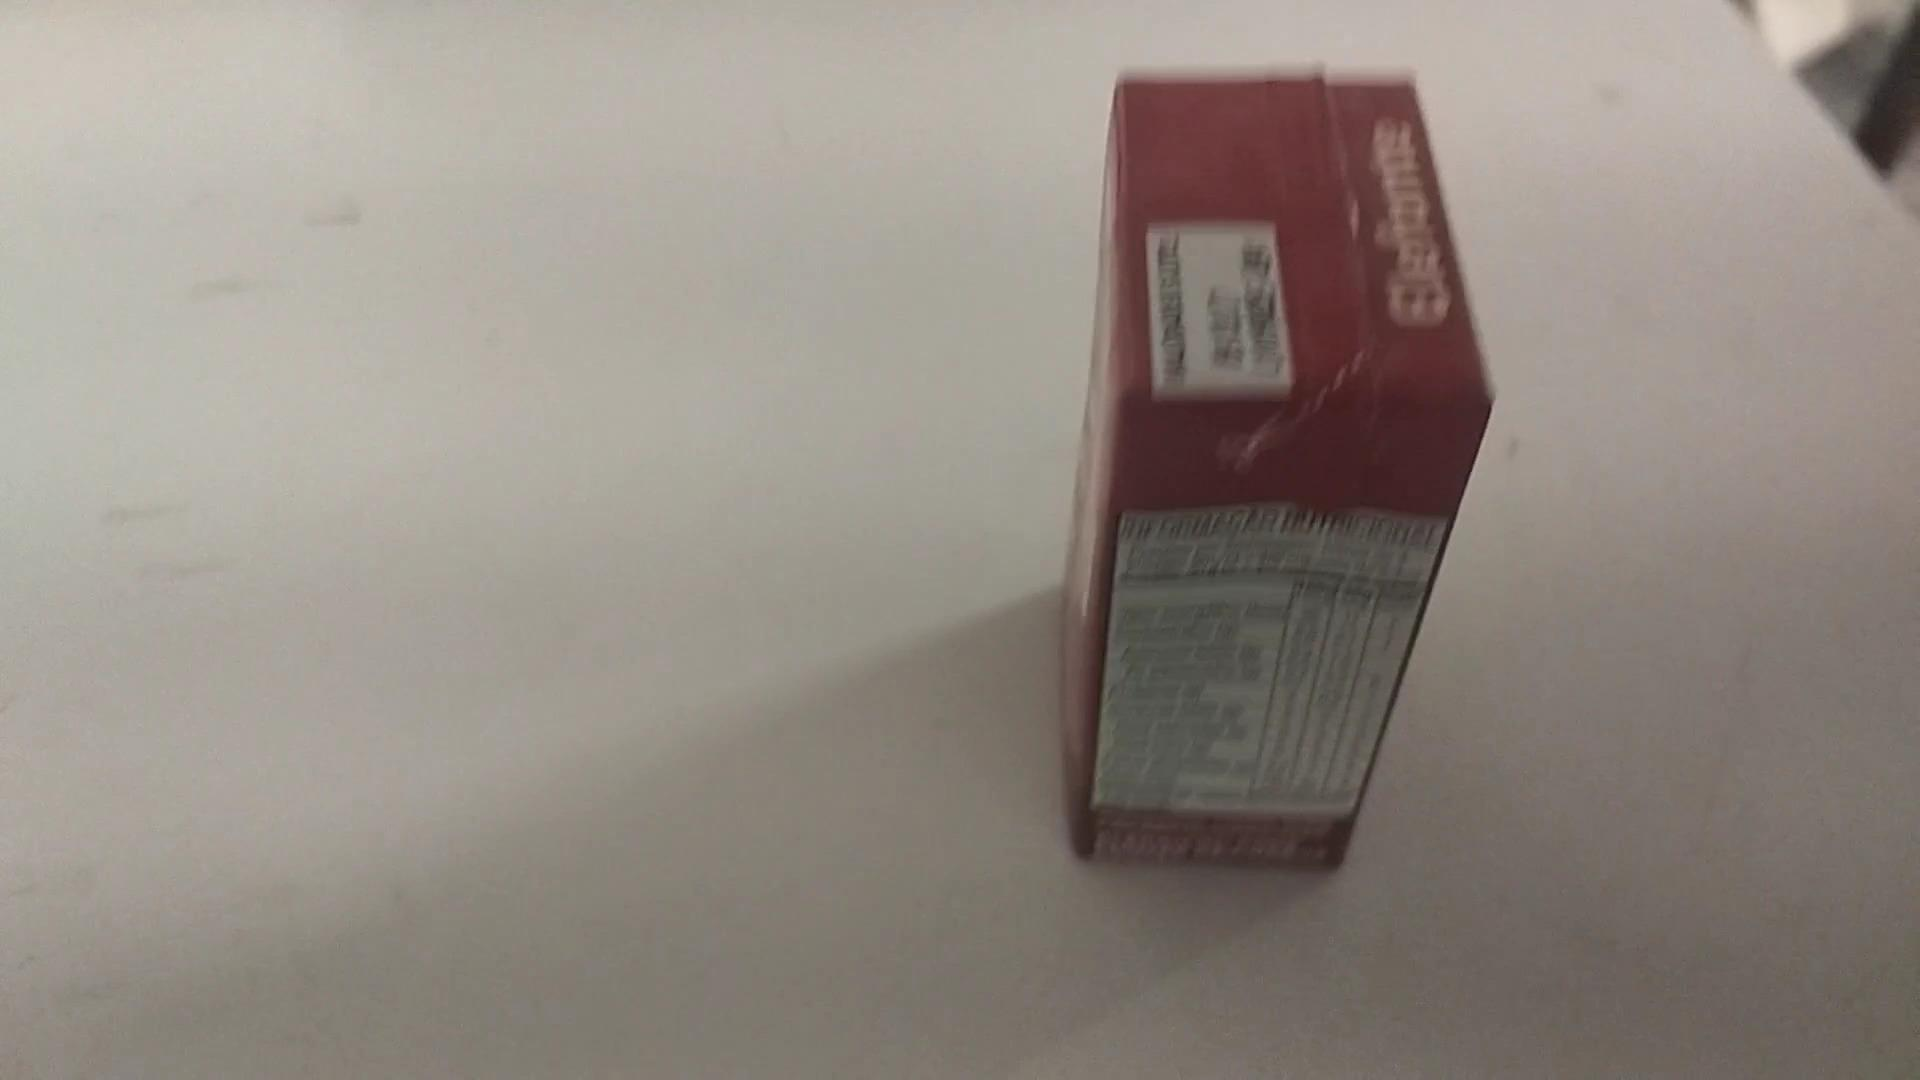tomate: (1028, 44, 1509, 886)
